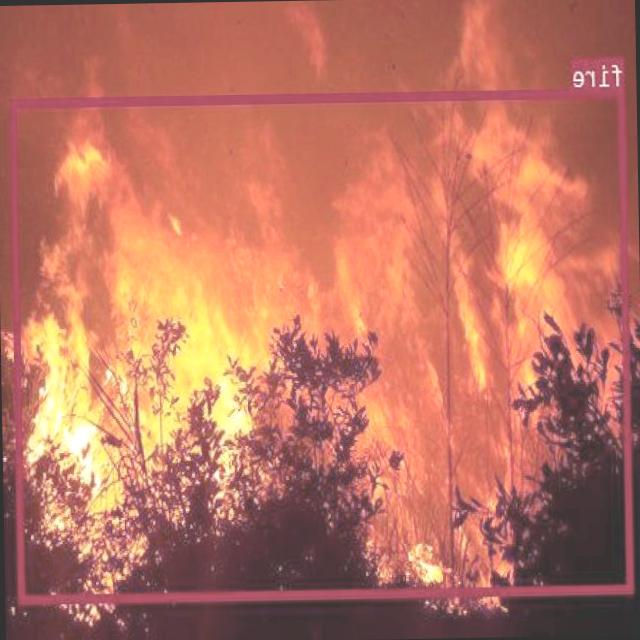fire: (11, 88, 634, 602)
